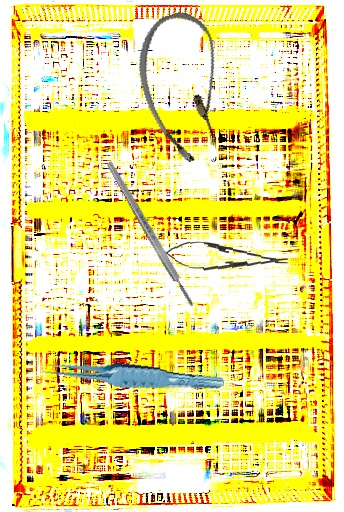Cannula: (124, 5, 245, 169)
Needle Holder: (162, 238, 289, 277)
Scalpel Handle: (105, 159, 196, 309)
Tissue Forceps: (37, 347, 225, 404)
